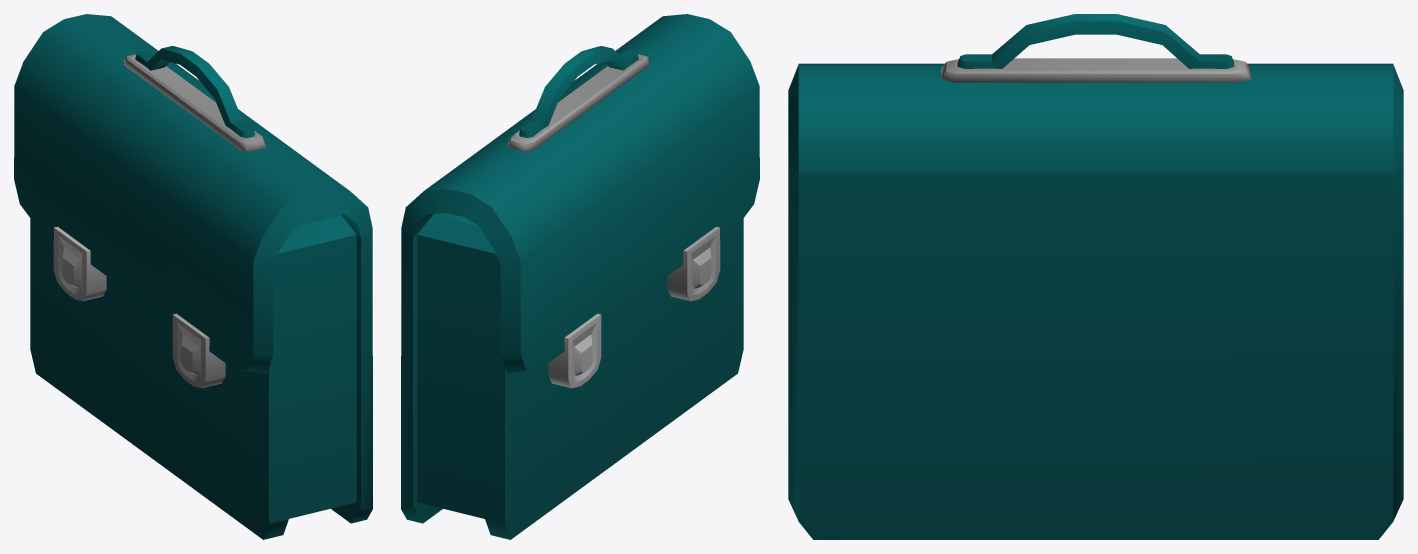
Rendered from Suitcase_1_1_L.fbx.
The picture shows the model from 3 angles, left to right: view 1: azimuth 30°, elevation 25°; view 2: azimuth 150°, elevation 25°; view 3: azimuth 270°, elevation 25°; orthographic projection. The views are drawn at different scales.
Visible parts, largest first — view 1: Suitcase_1_1_L; view 2: Suitcase_1_1_L; view 3: Suitcase_1_1_L.
Boxes of the visible parts, x1,y1,x2,y2 form: Suitcase_1_1_L: (14,14,372,539); Suitcase_1_1_L: (401,14,759,539); Suitcase_1_1_L: (788,14,1403,539).
Size of the model in its own units: 16.04 by 47.79 by 54.73.
